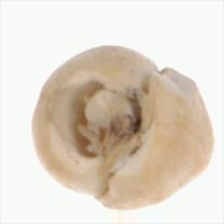L3: (71, 82, 153, 162)
L4: (32, 44, 214, 211)
